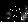person: (20, 4, 28, 22), (5, 13, 11, 19)
